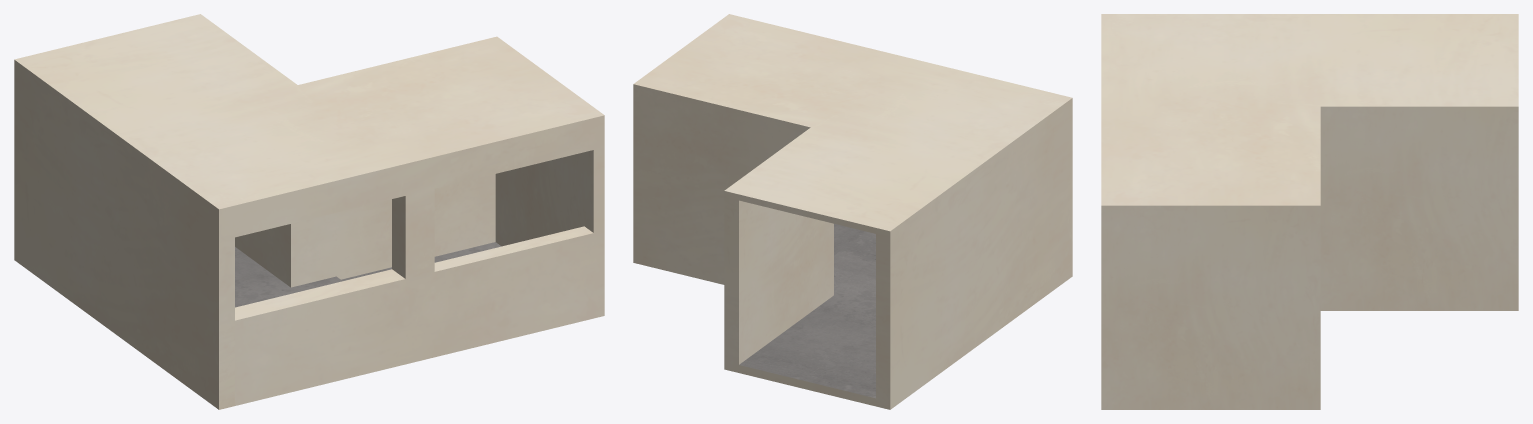
The model's file is LucasTan_rubbishRoom.fbx.
The picture shows the model from 3 angles, left to right: view 1: azimuth 30°, elevation 25°; view 2: azimuth 150°, elevation 25°; view 3: azimuth 270°, elevation 25°; orthographic projection. The views are drawn at different scales.
Parts seen in each view (by area): view 1: rubbish_chute; view 2: rubbish_chute; view 3: rubbish_chute.
Boxes of the visible parts, <box> form: rubbish_chute: <box>14,14,604,409</box>; rubbish_chute: <box>633,14,1072,409</box>; rubbish_chute: <box>1101,14,1518,409</box>.
Size of the model in its own units: 5.97 by 2.97 by 5.49.
